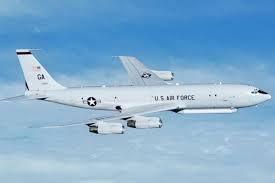maybay_dansu: (10, 50, 273, 134)
